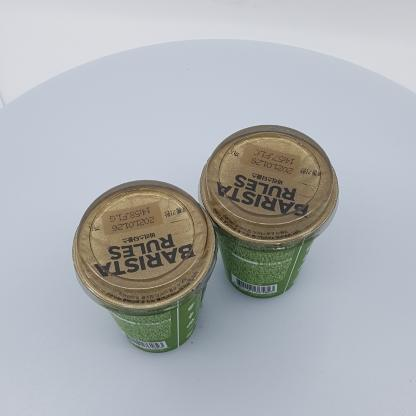-------------------: (72, 180, 218, 353), (198, 125, 339, 299)
